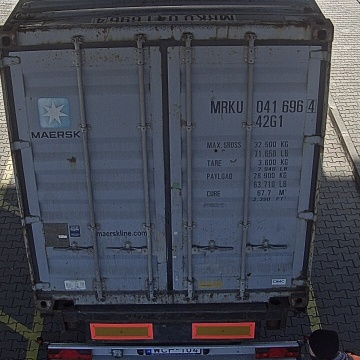serial_id: (210, 99, 315, 114)
